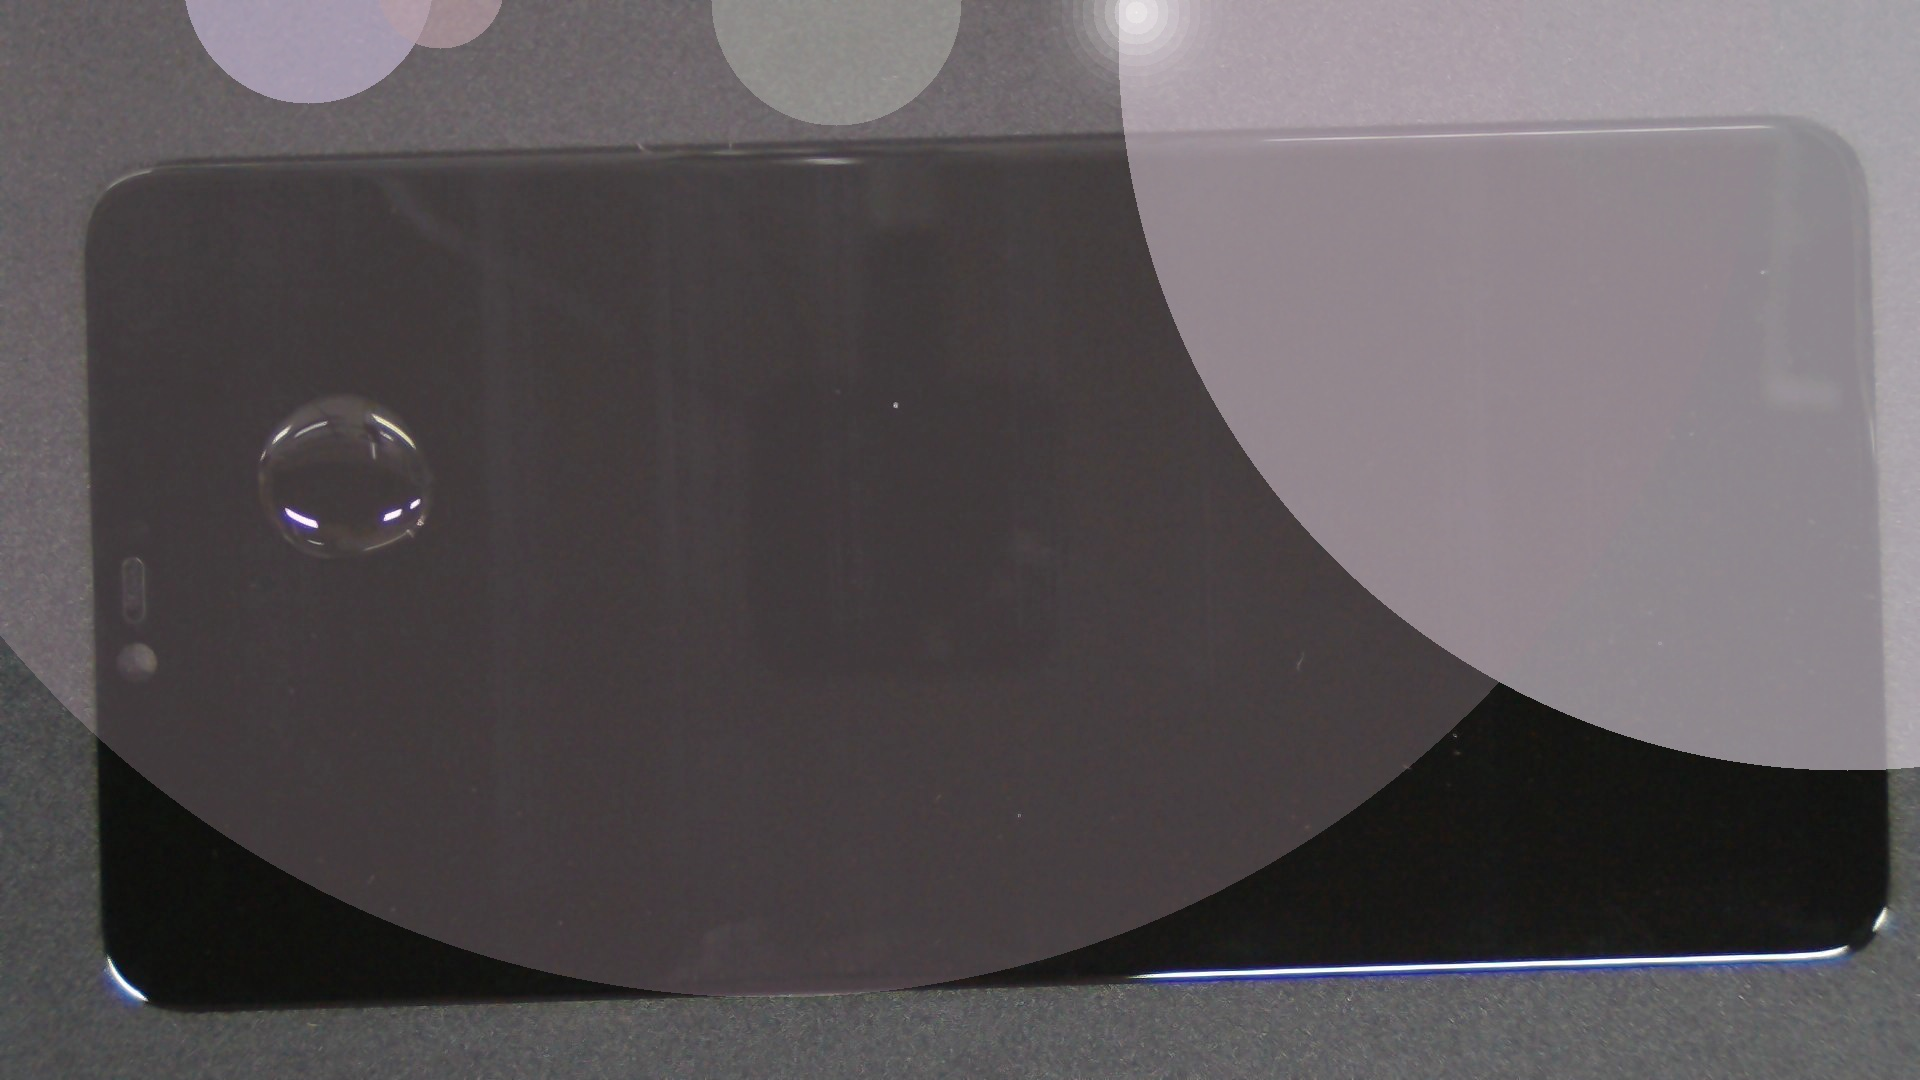oil: (169, 196, 505, 592)
